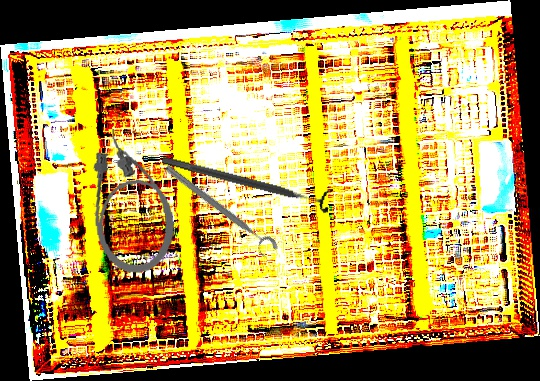Cannula: (85, 123, 179, 277)
Fixation Ring: (157, 161, 281, 262), (159, 146, 334, 215)
